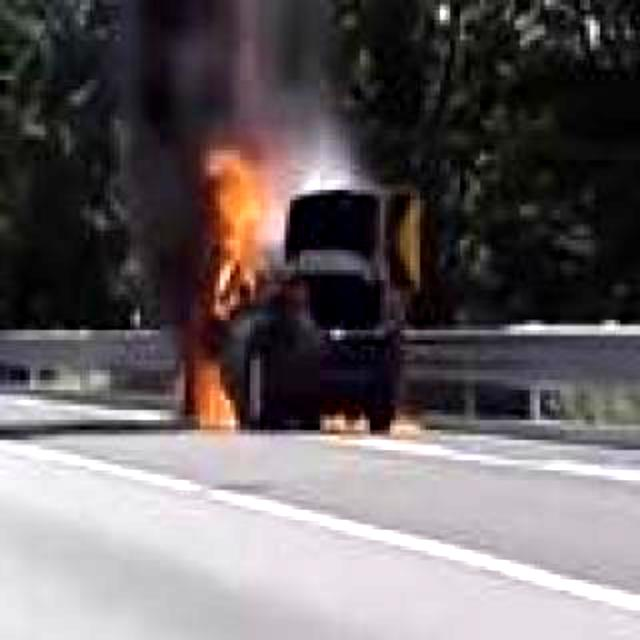fire: (185, 145, 272, 429)
smoke: (116, 0, 296, 421)
